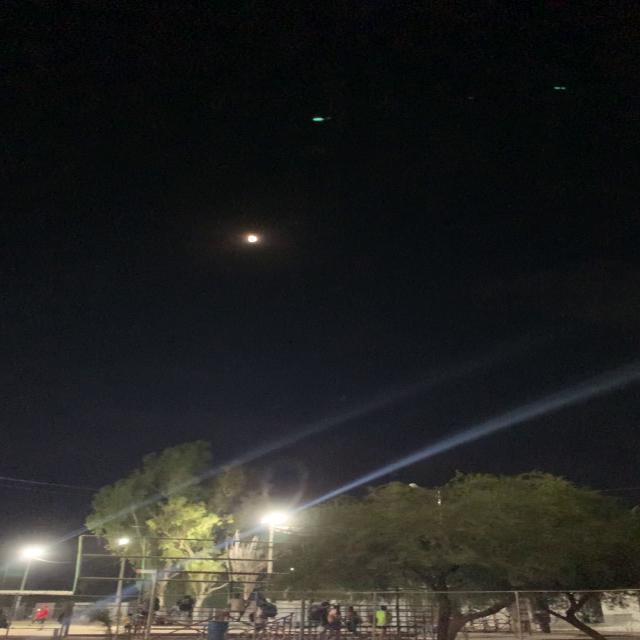moon: (232, 226, 278, 256)
